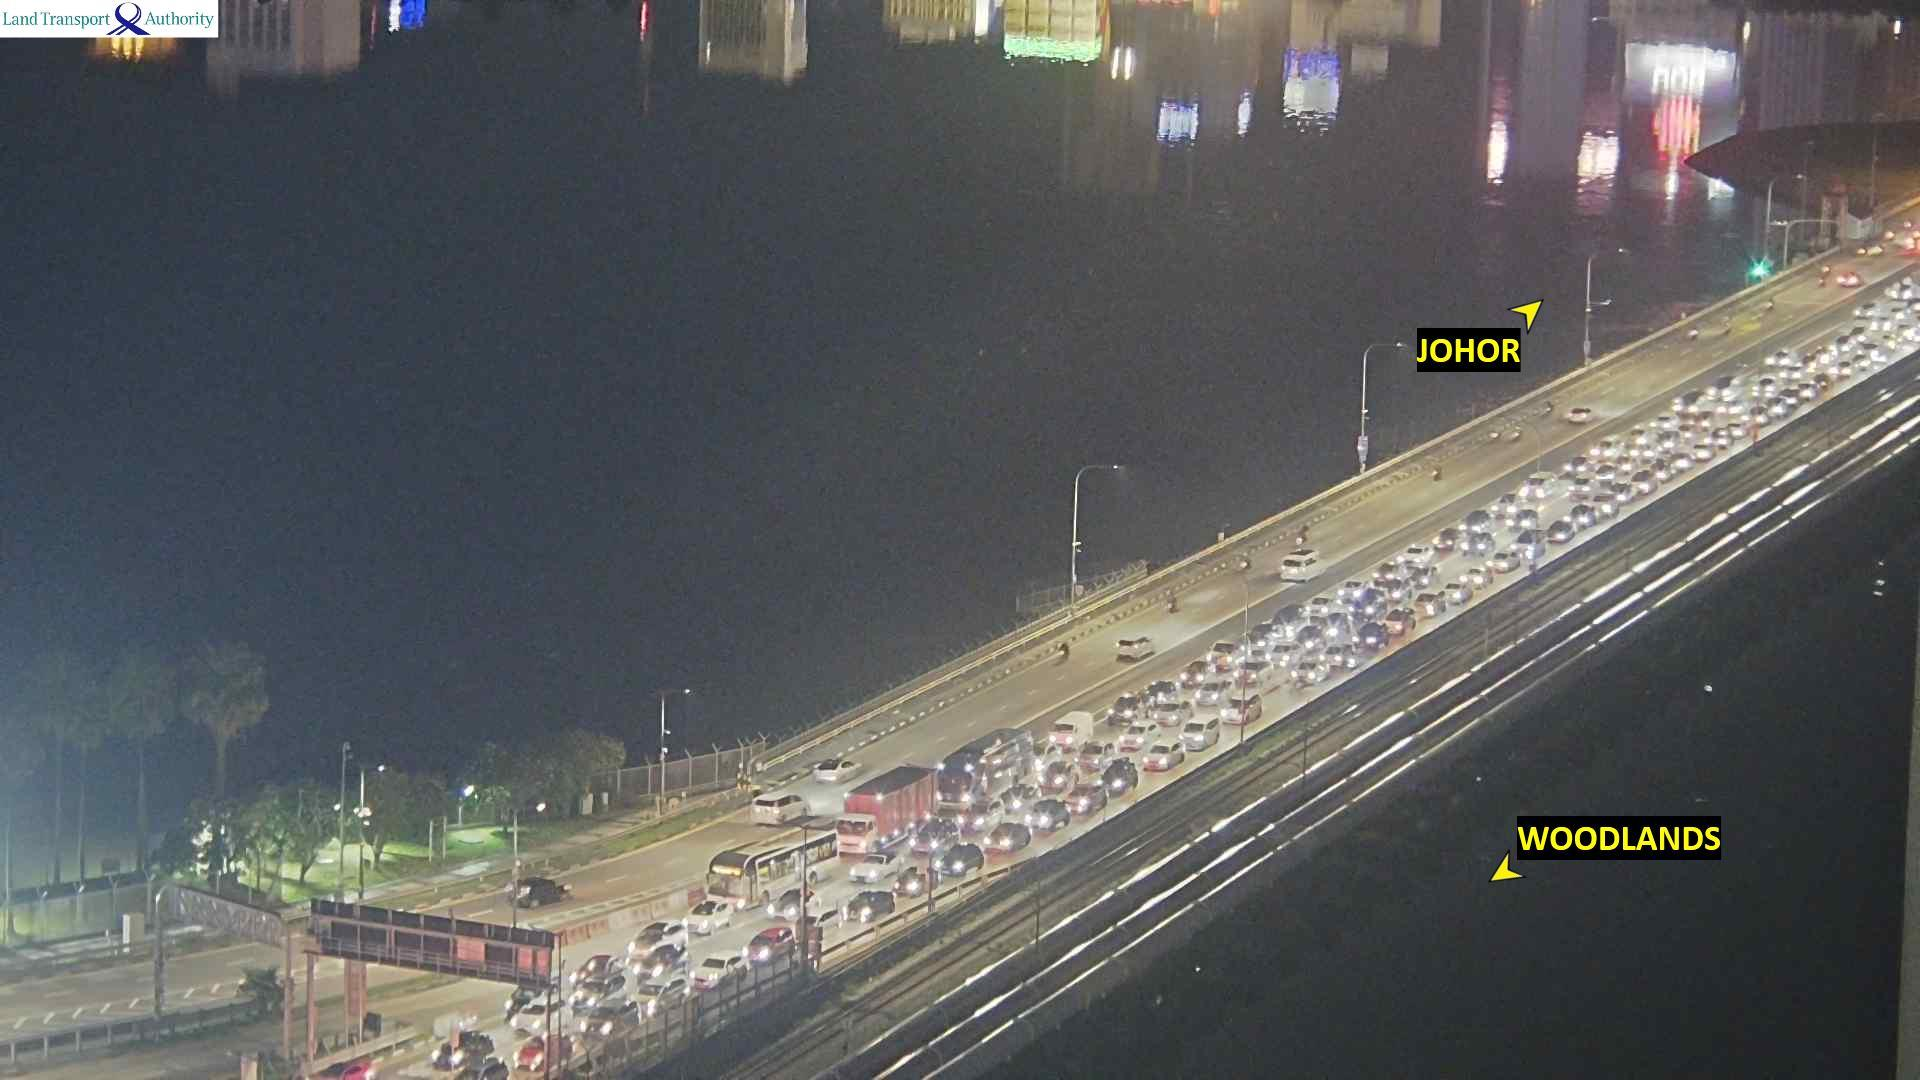vehicle-causeway-johor: (751, 791, 811, 824), (506, 879, 566, 907), (812, 758, 861, 783), (1278, 549, 1316, 574), (1117, 638, 1154, 661), (1571, 406, 1597, 423), (1838, 272, 1864, 287), (1163, 592, 1177, 615), (1296, 525, 1309, 545), (1766, 298, 1776, 315), (1431, 462, 1441, 478), (1511, 426, 1521, 441), (1689, 324, 1698, 340), (1058, 643, 1066, 657)
vehicle-causeway-singapore: (708, 831, 843, 905), (836, 768, 938, 852), (937, 728, 1031, 810), (431, 1034, 503, 1073), (511, 996, 567, 1040), (634, 974, 689, 1018), (571, 949, 626, 989), (583, 1003, 638, 1042), (925, 844, 988, 876), (695, 952, 743, 990), (684, 897, 731, 935), (848, 852, 905, 882), (973, 824, 1031, 852), (1048, 711, 1091, 747), (770, 887, 819, 918), (844, 889, 898, 916), (635, 943, 688, 969), (1067, 783, 1106, 818), (1179, 716, 1222, 747), (1106, 692, 1144, 726), (1100, 761, 1143, 790), (1026, 801, 1068, 830), (1139, 745, 1184, 772), (1219, 694, 1262, 722), (1196, 677, 1236, 707), (1291, 657, 1330, 685), (1270, 606, 1304, 638), (1119, 723, 1155, 753), (1079, 742, 1112, 774), (1040, 762, 1073, 794), (1349, 592, 1386, 619), (745, 926, 792, 947), (1149, 700, 1193, 722), (1139, 680, 1176, 706), (1520, 472, 1555, 499), (1566, 472, 1598, 501), (1234, 660, 1275, 682), (1298, 626, 1329, 654), (1178, 662, 1211, 688), (1355, 625, 1390, 649), (1510, 532, 1545, 556), (1208, 642, 1241, 667), (1591, 435, 1622, 460), (1399, 541, 1432, 564), (1564, 505, 1596, 528), (1484, 550, 1519, 571), (1458, 511, 1491, 533), (1386, 610, 1416, 634), (1442, 583, 1471, 606), (1490, 494, 1522, 514), (1592, 495, 1622, 516), (1460, 568, 1493, 587), (1306, 596, 1332, 620), (1460, 535, 1491, 555), (1630, 471, 1659, 492), (1407, 566, 1435, 587), (1415, 595, 1447, 613), (1548, 520, 1573, 543), (1434, 529, 1459, 551), (1375, 560, 1402, 580), (1248, 626, 1272, 646), (1854, 302, 1879, 320), (1768, 349, 1793, 367), (1783, 390, 1804, 411), (1339, 579, 1363, 597), (1796, 382, 1819, 400), (1770, 399, 1789, 420), (1748, 407, 1769, 426), (1672, 454, 1694, 470), (1270, 644, 1297, 656), (1836, 336, 1854, 352)
